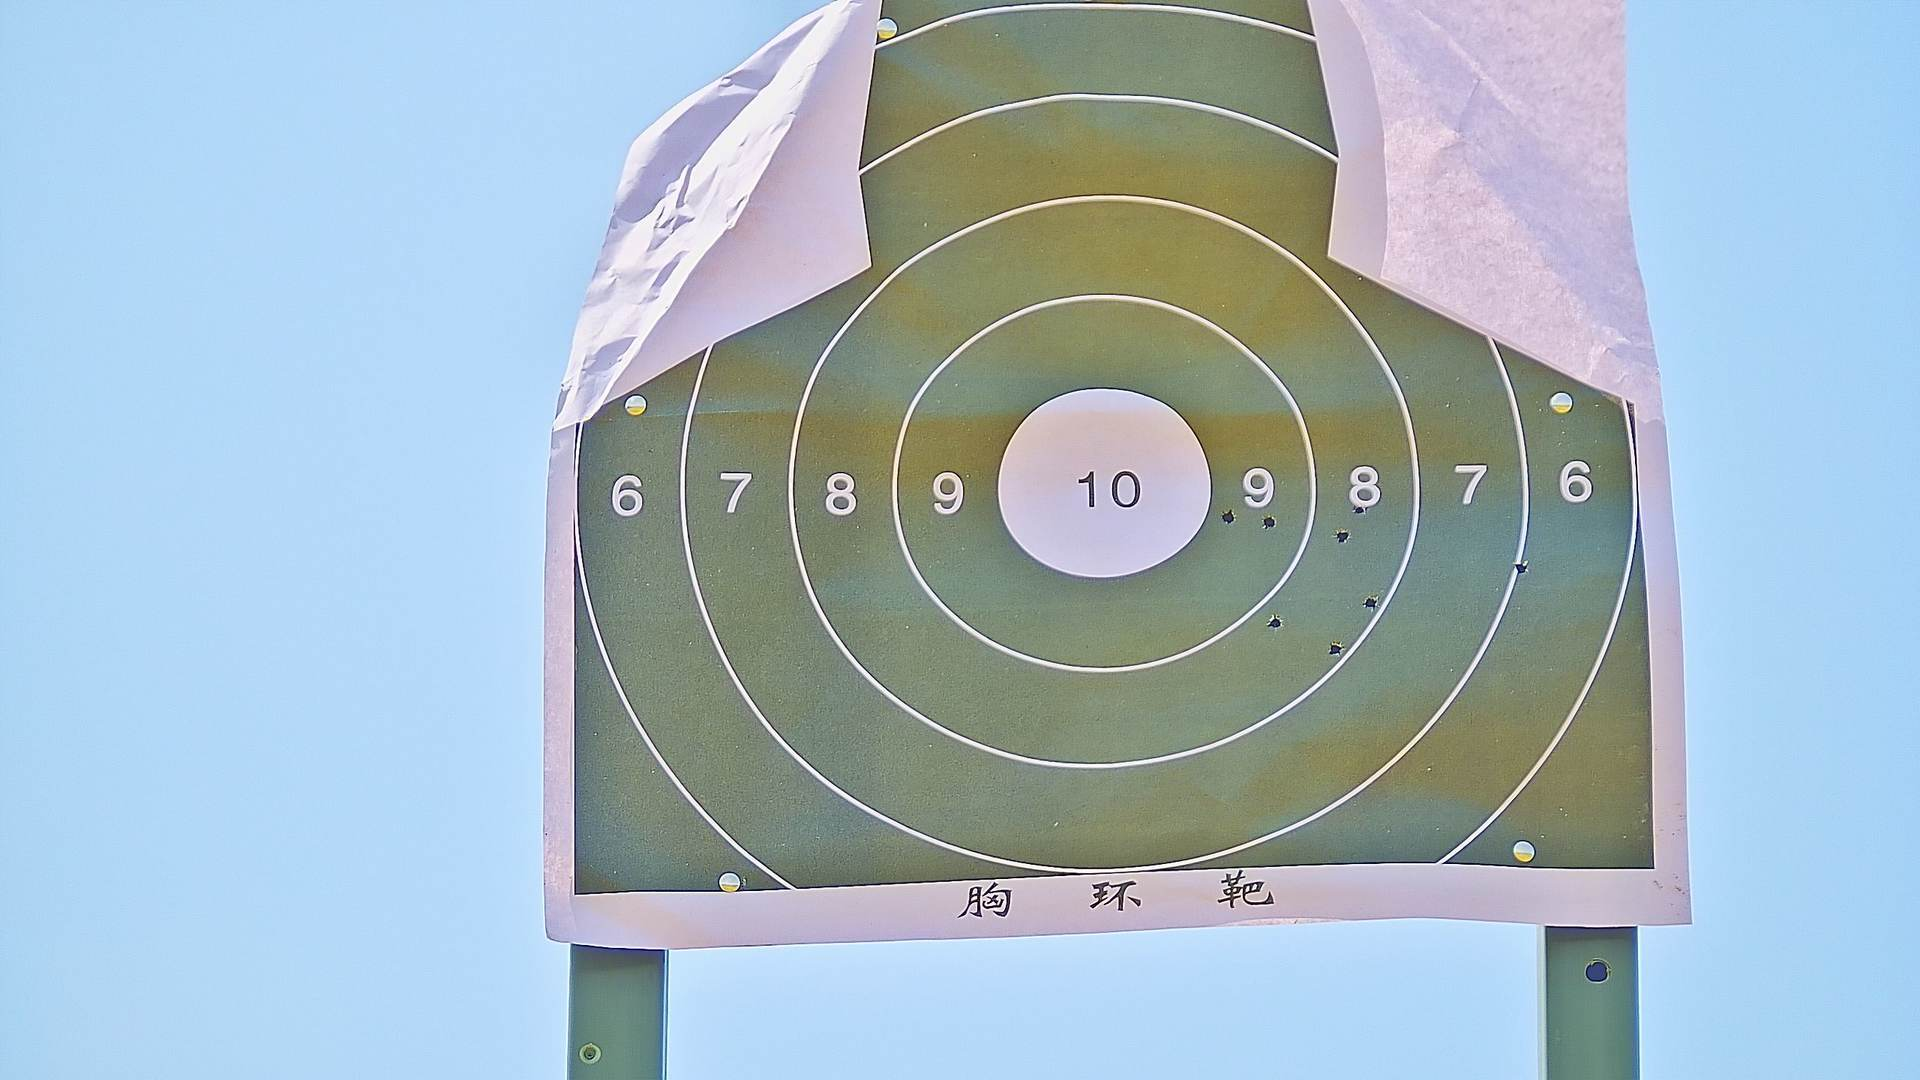hole: (1335, 526, 1349, 545), (1266, 615, 1284, 629), (1265, 513, 1278, 530), (1327, 641, 1341, 655), (1516, 560, 1530, 574), (1221, 509, 1233, 524), (1354, 504, 1367, 516), (1364, 595, 1375, 607)
kernel: (1098, 488, 1106, 492)
target: (574, 1, 1654, 878)
ten: (997, 389, 1212, 578)
